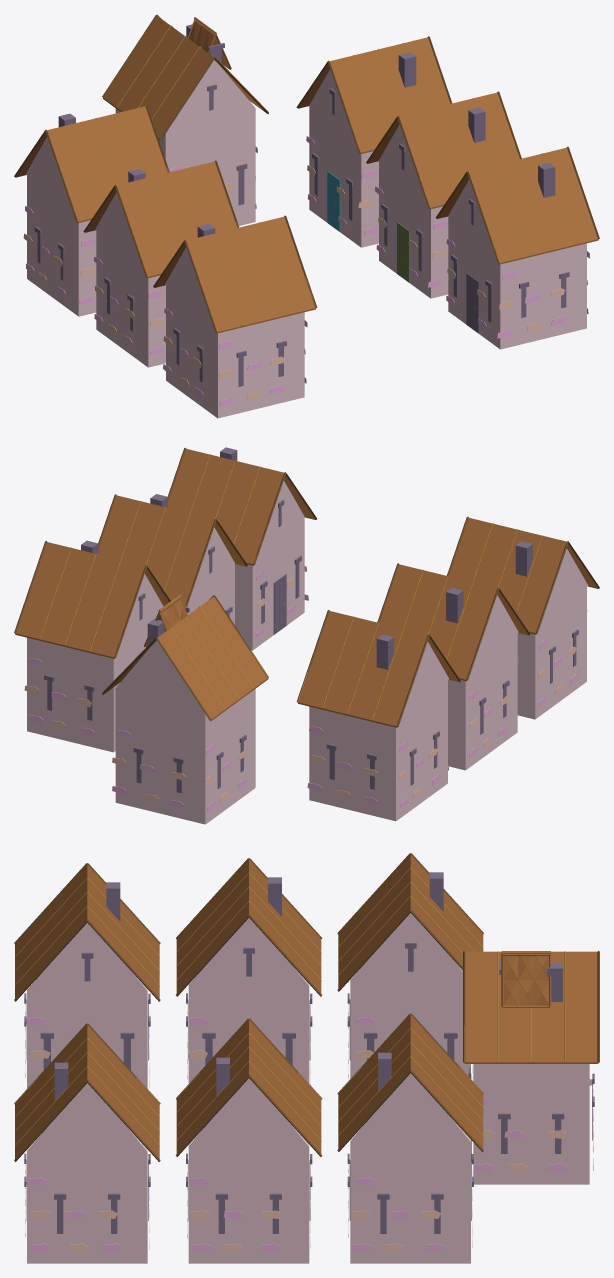
The model's file is building.glb.
The picture shows the model from 3 angles, top to bottom: view 1: azimuth 30°, elevation 25°; view 2: azimuth 150°, elevation 25°; view 3: azimuth 270°, elevation 25°; orthographic projection. The views are drawn at different scales.
Visible parts, largest first — view 1: 13_R2B_Town_IndividualCottage_0, 13_R2B_Town_IndividualCottage_3, 13_R2B_Town_IndividualCottage_2, 13_R2B_Town_IndividualCottage_5, 13_R2B_Town_IndividualCottage_6, 13_R2B_Town_IndividualCottage_4, 13_R2B_Town_IndividualCottage_1; view 2: 13_R2B_Town_IndividualCottage_6, 13_R2B_Town_IndividualCottage_2, 13_R2B_Town_IndividualCottage_5, 13_R2B_Town_IndividualCottage_1, 13_R2B_Town_IndividualCottage_3, 13_R2B_Town_IndividualCottage_0, 13_R2B_Town_IndividualCottage_4; view 3: 13_R2B_Town_IndividualCottage_6, 13_R2B_Town_IndividualCottage_5, 13_R2B_Town_IndividualCottage_4, 13_R2B_Town_IndividualCottage_3, 13_R2B_Town_IndividualCottage_1, 13_R2B_Town_IndividualCottage_0, 13_R2B_Town_IndividualCottage_2.
Part boxes in pixels (<box>): 13_R2B_Town_IndividualCottage_0: <box>153,215,317,418</box>; 13_R2B_Town_IndividualCottage_3: <box>436,146,599,349</box>; 13_R2B_Town_IndividualCottage_2: <box>14,105,169,316</box>; 13_R2B_Town_IndividualCottage_5: <box>296,36,452,247</box>; 13_R2B_Town_IndividualCottage_6: <box>102,14,268,225</box>; 13_R2B_Town_IndividualCottage_4: <box>366,91,521,298</box>; 13_R2B_Town_IndividualCottage_1: <box>83,160,239,367</box>; 13_R2B_Town_IndividualCottage_6: <box>102,594,268,824</box>; 13_R2B_Town_IndividualCottage_2: <box>296,610,460,821</box>; 13_R2B_Town_IndividualCottage_5: <box>14,540,170,752</box>; 13_R2B_Town_IndividualCottage_1: <box>377,563,530,770</box>; 13_R2B_Town_IndividualCottage_3: <box>168,447,316,650</box>; 13_R2B_Town_IndividualCottage_0: <box>447,516,599,719</box>; 13_R2B_Town_IndividualCottage_4: <box>98,494,247,624</box>; 13_R2B_Town_IndividualCottage_6: <box>463,950,599,1184</box>; 13_R2B_Town_IndividualCottage_5: <box>337,1013,483,1263</box>; 13_R2B_Town_IndividualCottage_4: <box>175,1018,322,1263</box>; 13_R2B_Town_IndividualCottage_3: <box>14,1023,160,1263</box>; 13_R2B_Town_IndividualCottage_1: <box>176,858,322,1085</box>; 13_R2B_Town_IndividualCottage_0: <box>14,863,160,1088</box>; 13_R2B_Town_IndividualCottage_2: <box>337,853,483,1080</box>.
Size of the model in its own units: 1.13 by 0.526 by 1.28.
